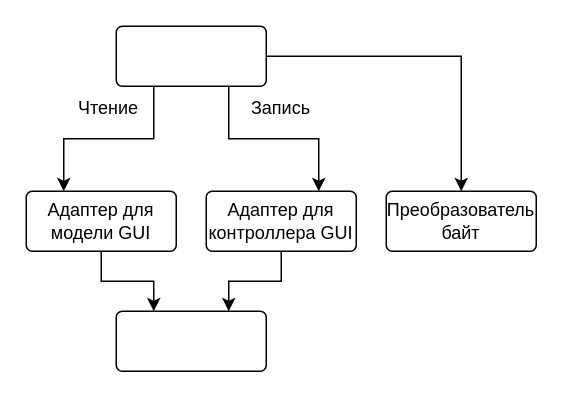
Image size: 563x398. Some labels were removed from this diagram. Each missing label, with the centre of its shape:
GUI: the point at 190,55
Движок файлов: the point at 190,340
